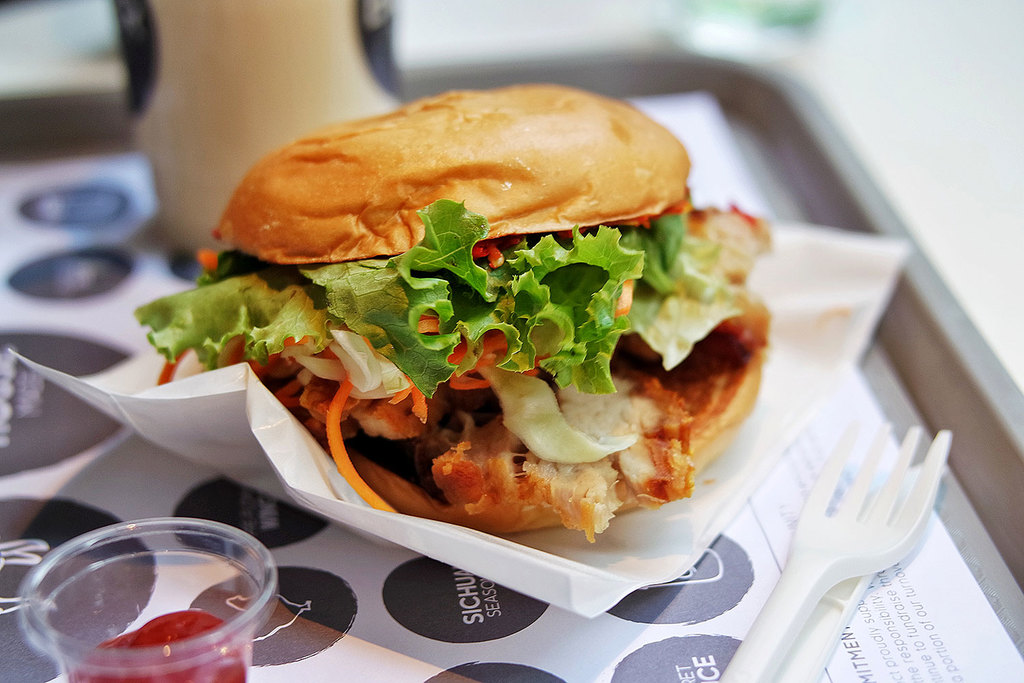Hamburger: (130, 84, 770, 538)
